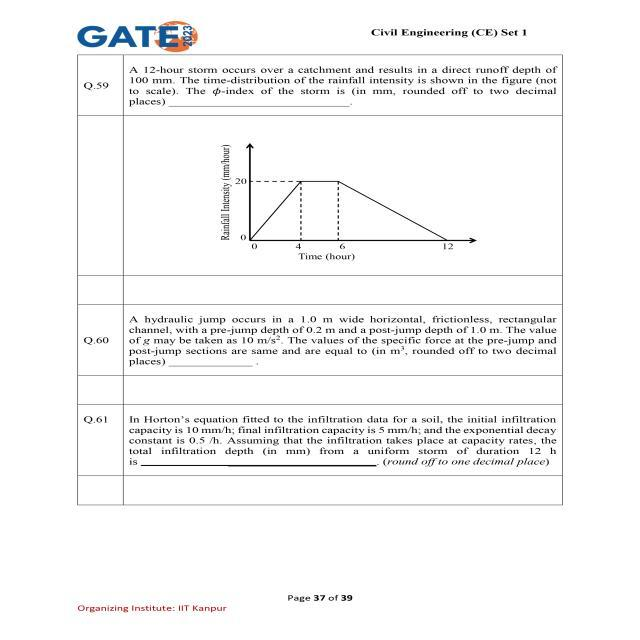Question_Answer_Block: (74, 53, 562, 274), (77, 306, 560, 376), (74, 406, 560, 475)
Question_Block: (71, 50, 563, 272), (75, 302, 563, 374), (76, 404, 563, 474)
Question_Paper_Area: (75, 53, 563, 505)
